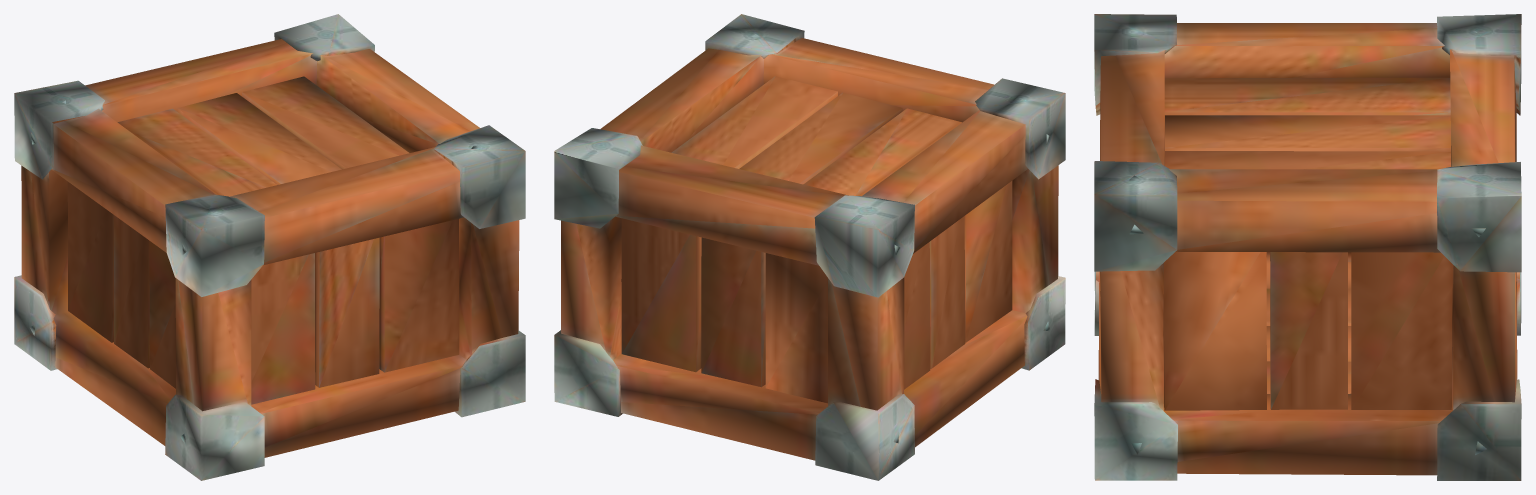
The model's file is crate_1.glb.
3 views of the same model, side by side, from view 1: azimuth 30°, elevation 25°; view 2: azimuth 150°, elevation 25°; view 3: azimuth 270°, elevation 25° (orthographic). The views are drawn at different scales.
Parts seen in each view (by area): view 1: Mesh_0; view 2: Mesh_0; view 3: Mesh_0.
Boxes of the visible parts, x1,y1,x2,y2 form: Mesh_0: (14, 14, 525, 480); Mesh_0: (554, 14, 1065, 480); Mesh_0: (1094, 14, 1521, 480).
Size of the model in its own units: 0.6012 by 0.4478 by 0.6.
Materials: 1 (1 with a texture image).
